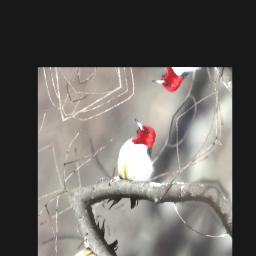Woodpecker: (93, 116, 172, 225)
